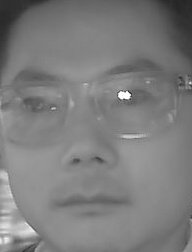glass: (92, 70, 177, 140), (1, 80, 74, 144)
mouth: (53, 181, 125, 221)
